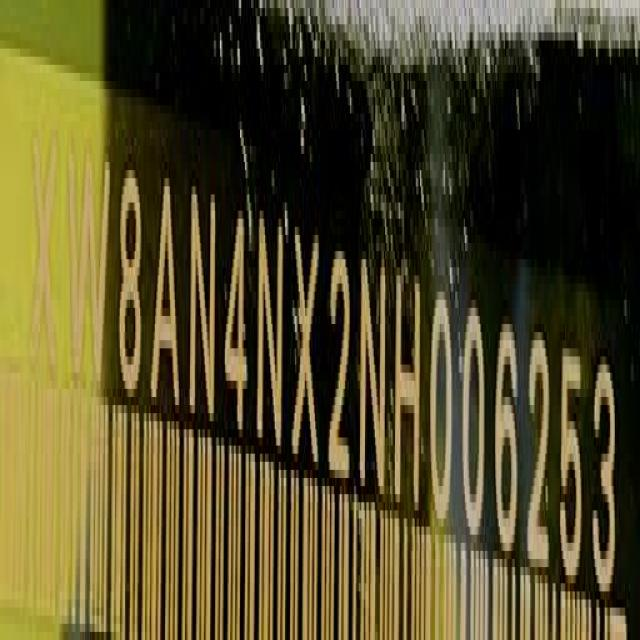0: (428, 276, 457, 532), (458, 295, 486, 547)
2: (527, 324, 553, 573), (328, 240, 353, 493)
3: (594, 348, 622, 607)
4: (222, 204, 248, 442)
5: (560, 334, 584, 596)
6: (494, 310, 522, 562)
8: (118, 158, 144, 400)
A: (149, 170, 181, 422)
H: (390, 255, 424, 528)
N: (255, 198, 286, 454), (358, 246, 388, 507), (190, 180, 220, 439)
W: (67, 122, 115, 398)
X: (26, 113, 64, 402), (294, 215, 324, 478)
